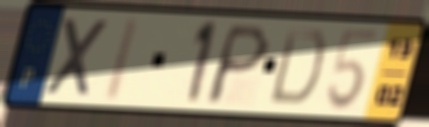1: (184, 18, 222, 108)
5: (323, 26, 382, 114)
D: (266, 25, 329, 109)
I: (99, 13, 144, 105)
P: (201, 22, 273, 108)
X: (41, 15, 112, 100)
